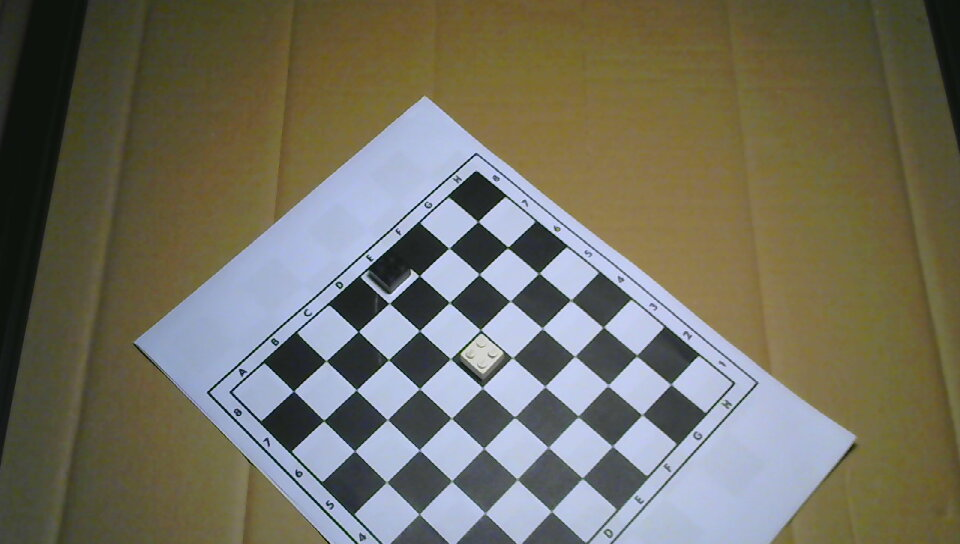bp: (370, 253, 411, 292)
wp: (460, 333, 505, 380)
